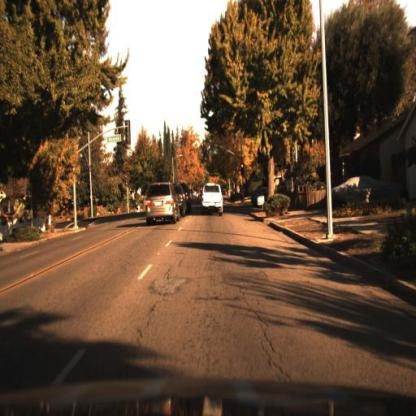car: (317, 170, 407, 210), (146, 181, 180, 225), (203, 183, 226, 217), (249, 187, 274, 211)
trafficLight-Red: (123, 171, 131, 189), (239, 157, 247, 173), (202, 137, 210, 152)
